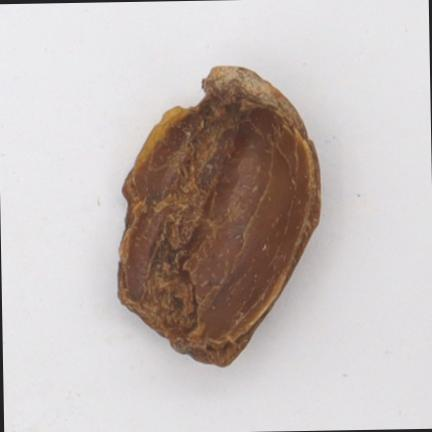husk: (119, 66, 320, 364)
